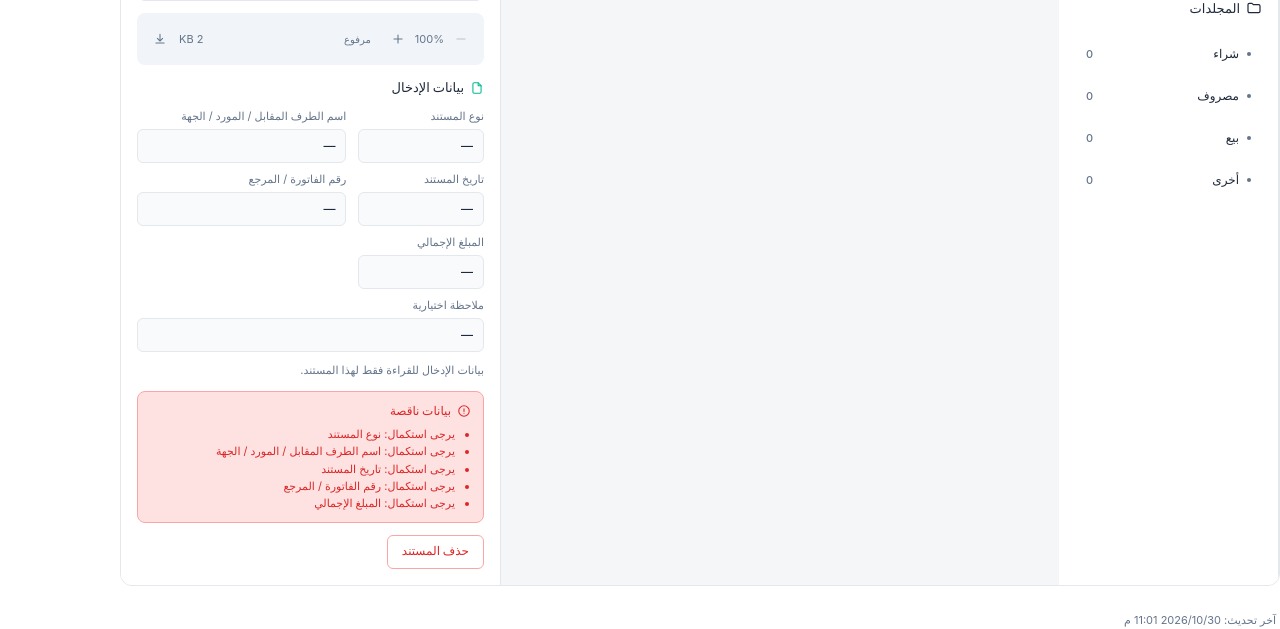
Test: Documents delete › renders the Arabic labels
(page scrolled)
Click the button "حذف المستند".
click(435, 552)  # box [387,535,484,569]
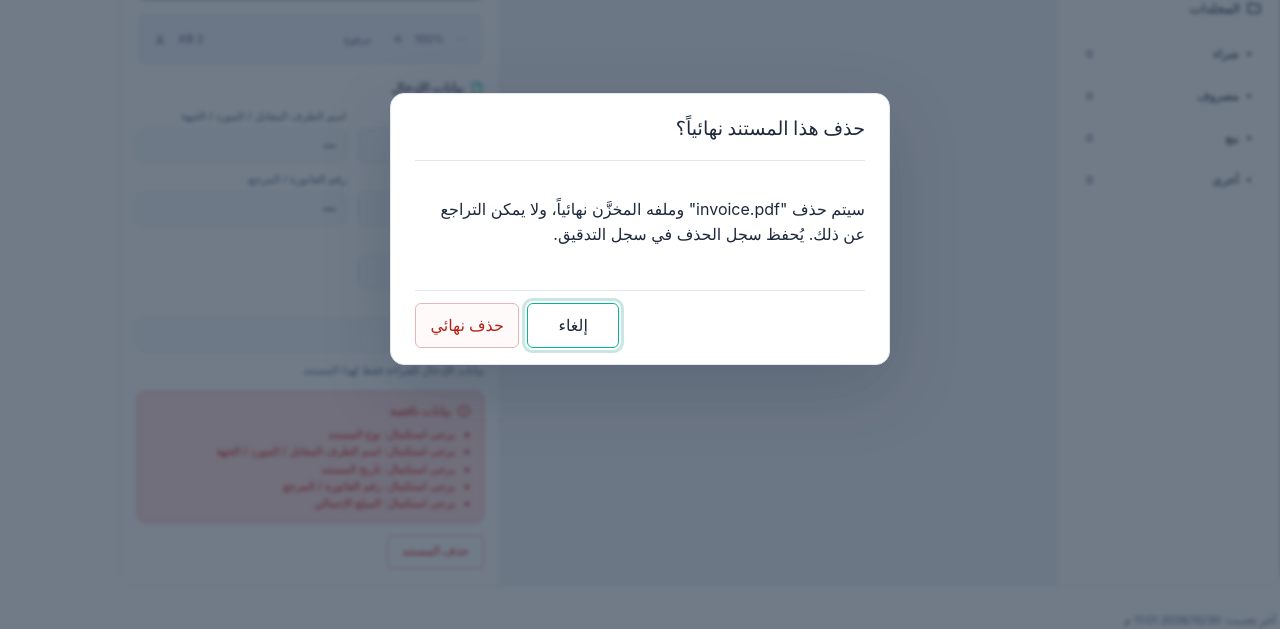
Result: the button "حذف نهائي" is shown at [415,304,519,348]
